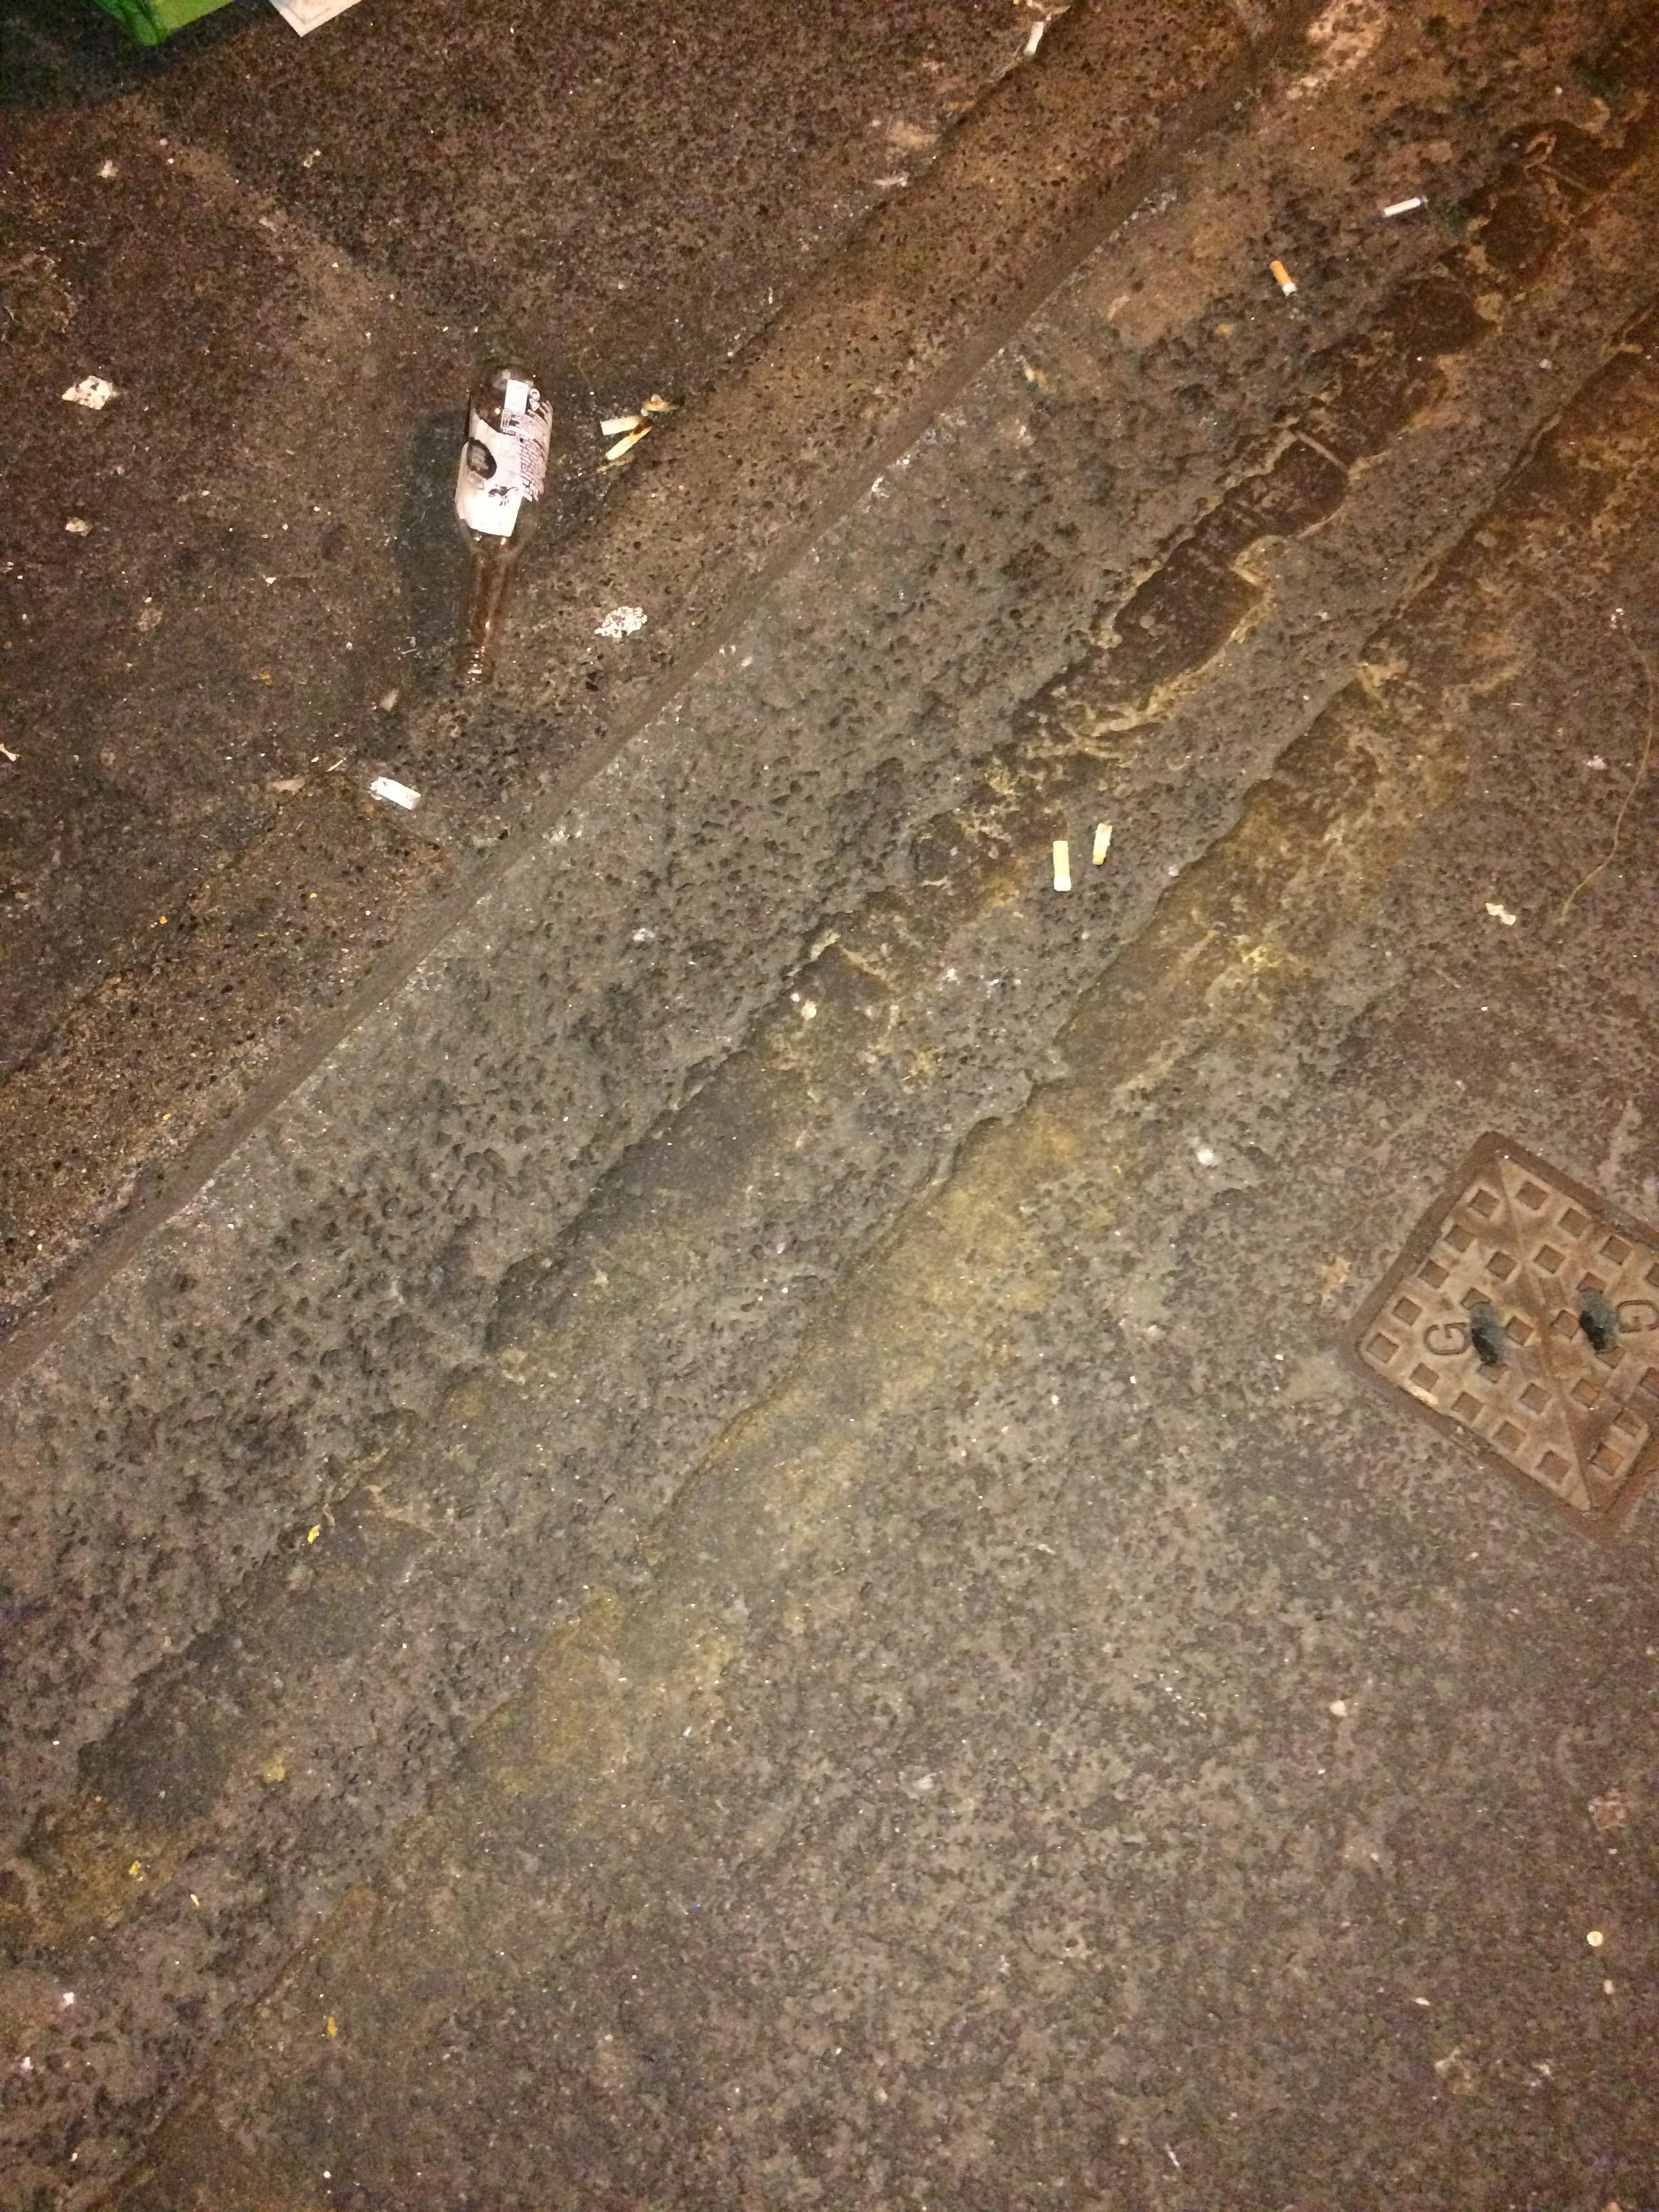Trash: (432, 340, 544, 700)
